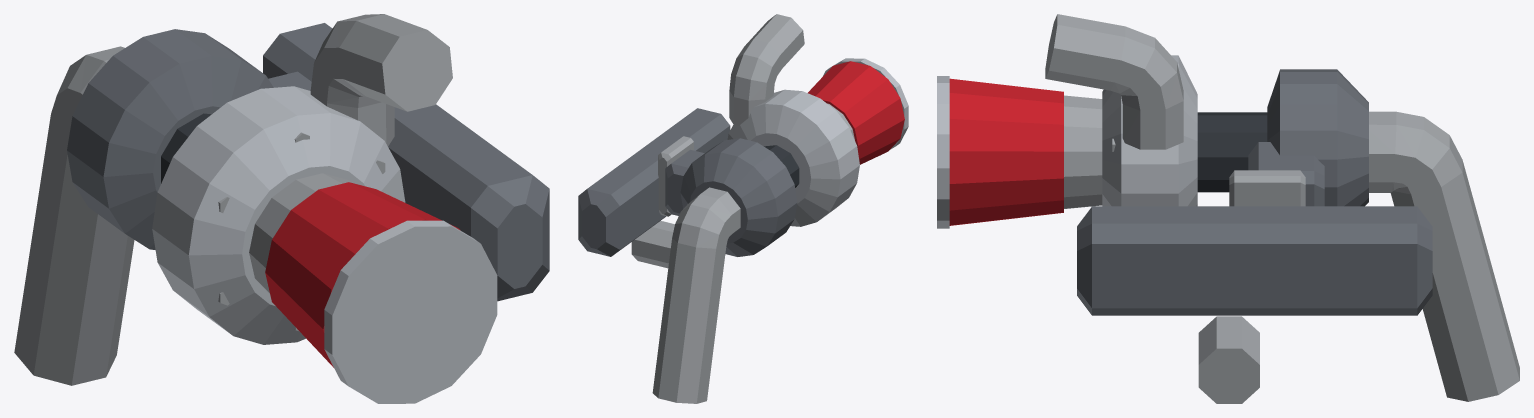
Rendered from starter_car.glb.
3 renders of one model, left to right at view 1: azimuth 30°, elevation 25°; view 2: azimuth 150°, elevation 25°; view 3: azimuth 270°, elevation 25°, orthographic. The views are drawn at different scales.
Parts seen in each view (by area): view 1: model; view 2: model; view 3: model.
Boxes of the visible parts, bbox=[...] form: model: bbox=[14, 14, 549, 403]; model: bbox=[578, 14, 908, 403]; model: bbox=[937, 14, 1519, 403].
Size of the model in its own units: 0.2432 by 0.3478 by 0.4587.
2 materials, 1 textured.
